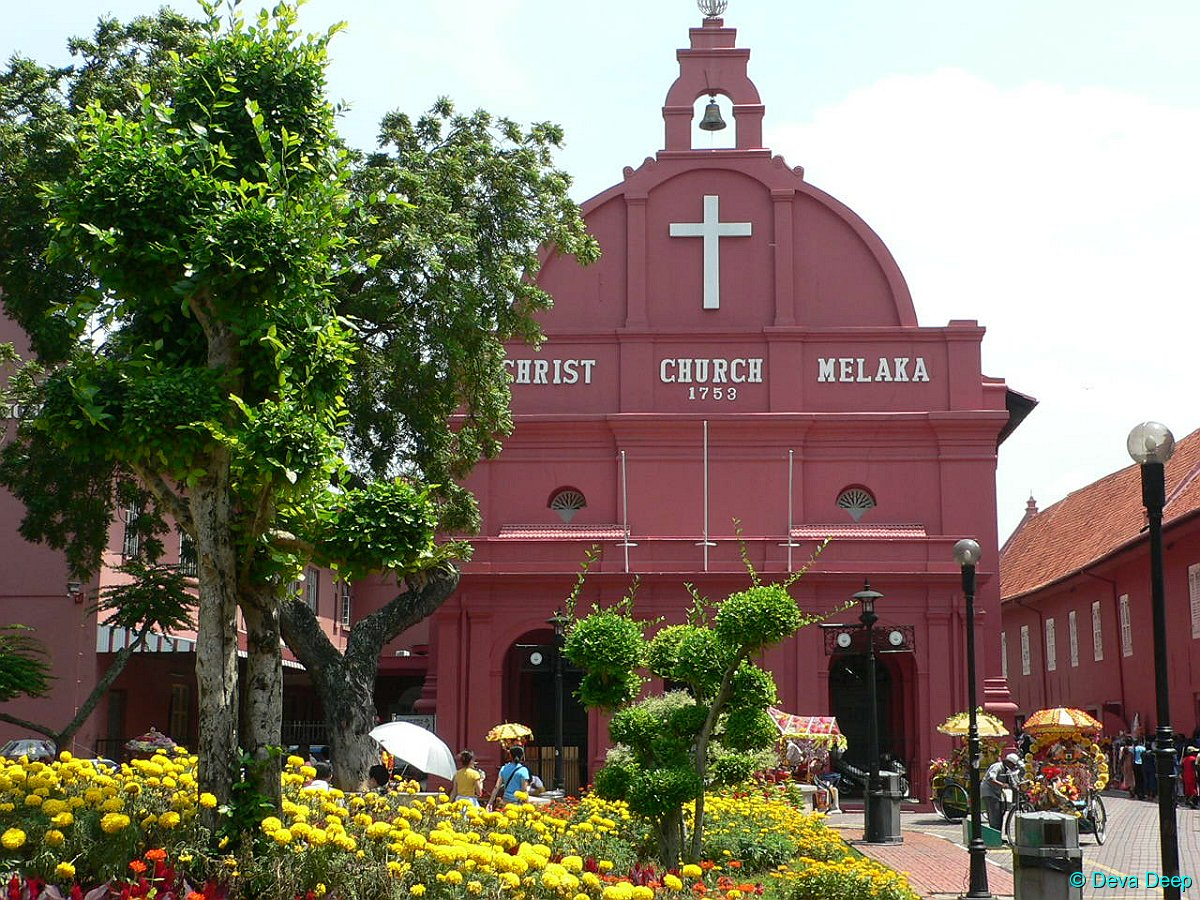Church: (398, 6, 1013, 745)
